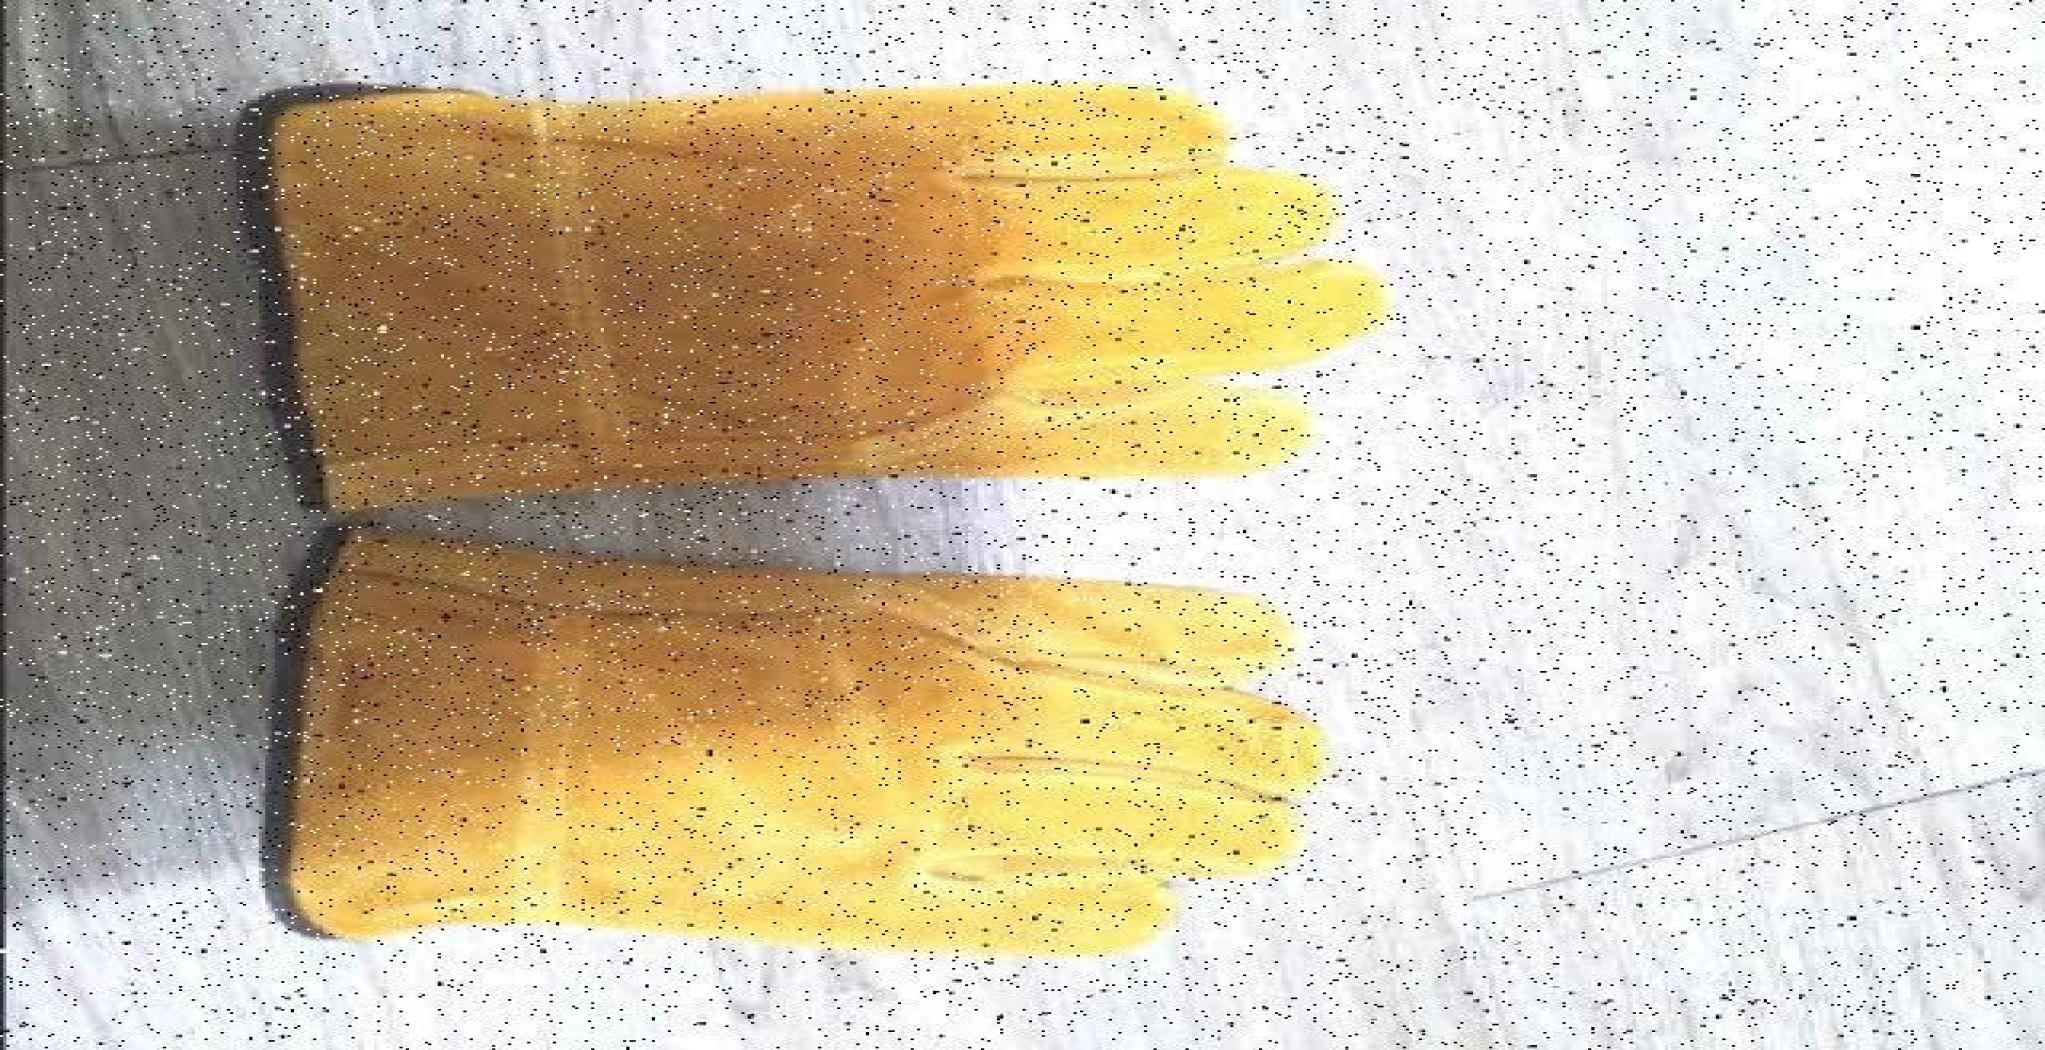gloved: (249, 76, 1386, 958)
